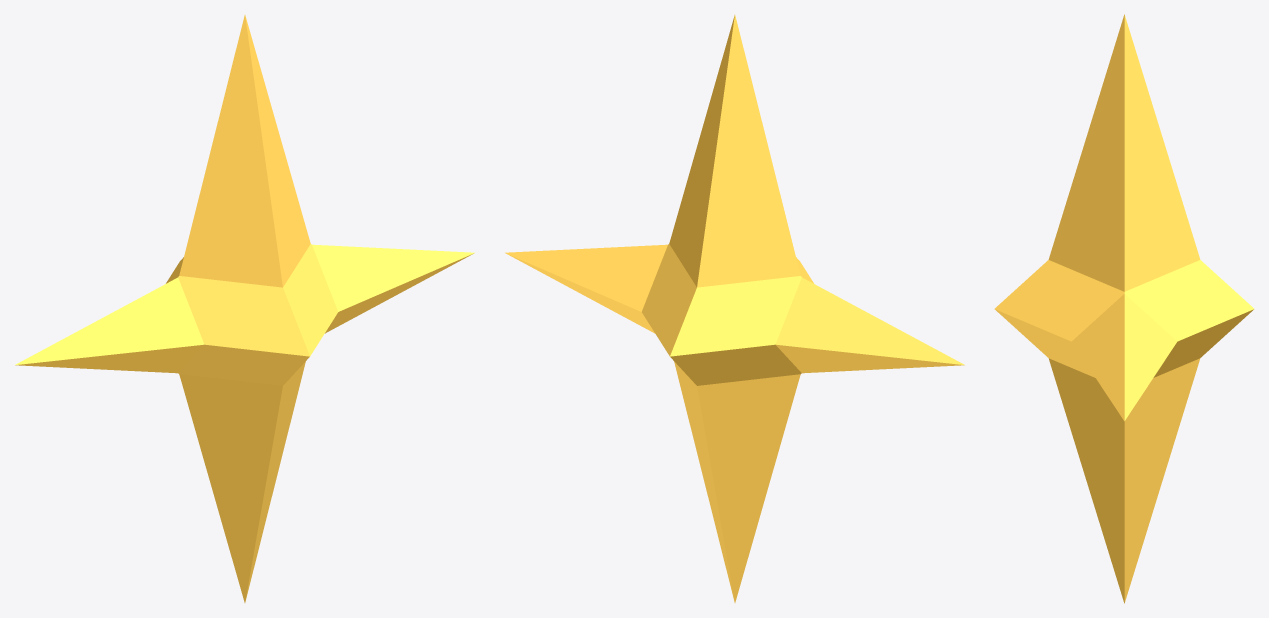
File: emblem_star.glb
The picture shows the model from 3 angles, left to right: view 1: azimuth 30°, elevation 25°; view 2: azimuth 150°, elevation 25°; view 3: azimuth 270°, elevation 25°; orthographic projection.
Bounding box in the file's own units: 0.9 × 1.1 × 0.44.
